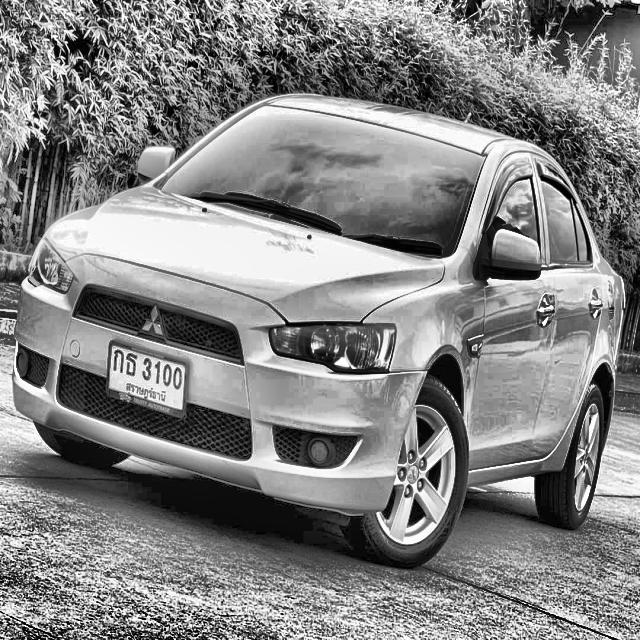license-plate: (104, 341, 193, 417)
